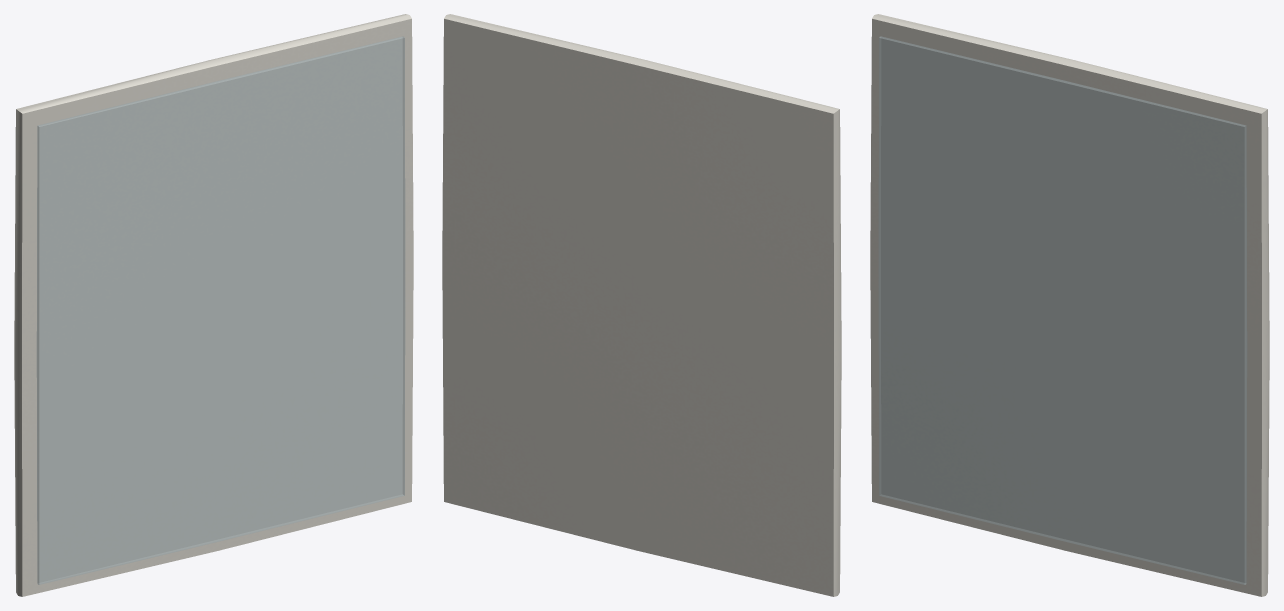
File: mirror.glb
3 views of the same model, side by side, from view 1: azimuth 30°, elevation 25°; view 2: azimuth 150°, elevation 25°; view 3: azimuth 330°, elevation 25° (orthographic).
Visible parts, largest first — view 1: mirror; view 2: mirror; view 3: mirror.
Part boxes in pixels (<box>): mirror: <box>14,14,413,596</box>; mirror: <box>442,14,841,596</box>; mirror: <box>870,14,1269,596</box>.
Size of the model in its own units: 0.55 by 0.65 by 0.0335.
Materials: 2 (2 with a texture image).
